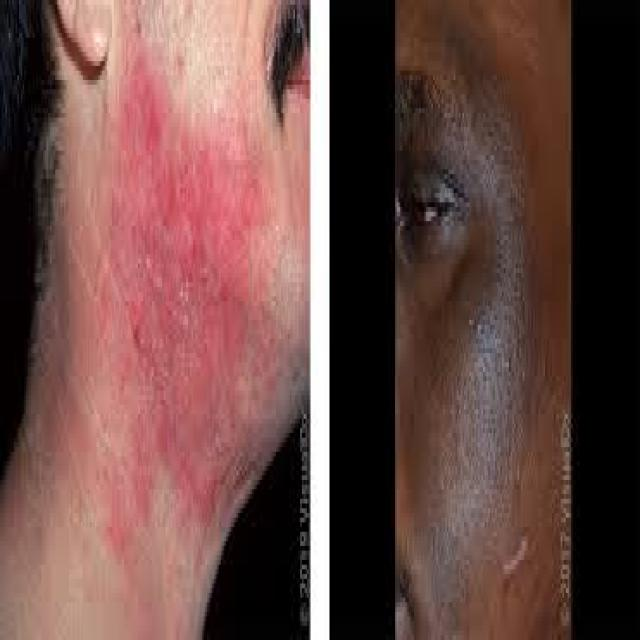Eczema: (130, 52, 256, 501), (470, 119, 540, 536)
